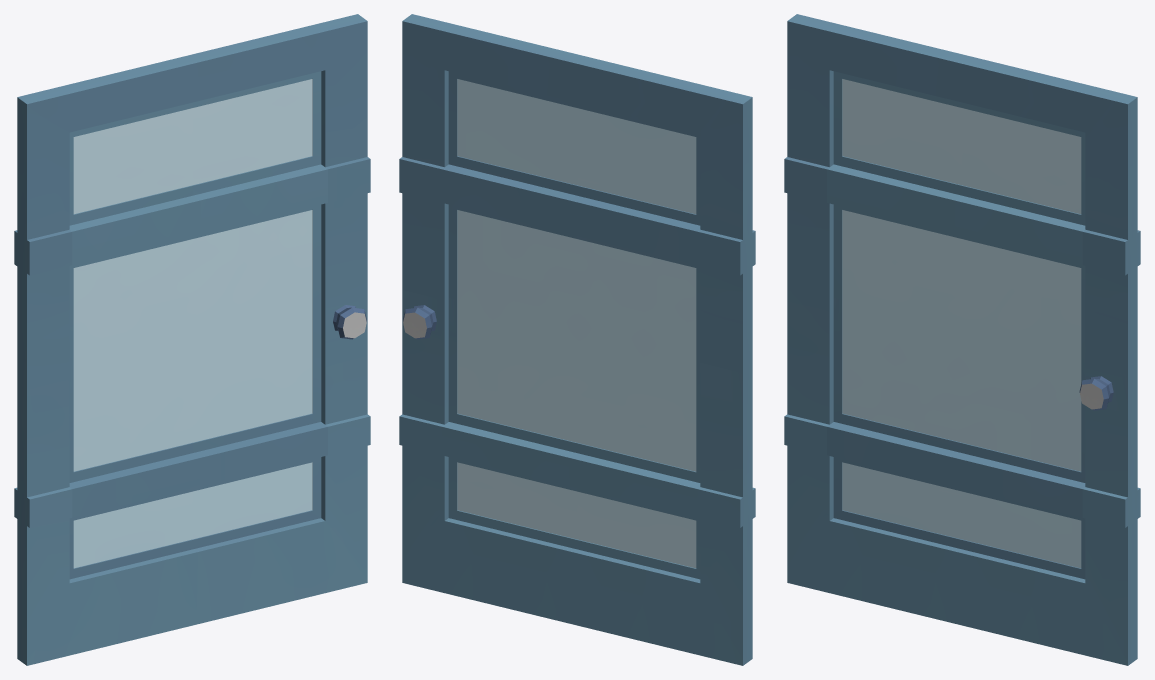
File: door_1.glb
The picture shows the model from 3 angles, left to right: view 1: azimuth 30°, elevation 25°; view 2: azimuth 150°, elevation 25°; view 3: azimuth 330°, elevation 25°; orthographic projection.
Visible parts, largest first — view 1: door_1; view 2: door_1; view 3: door_1.
Boxes of the visible parts, x1=… form: door_1: x1=14, y1=14, x2=370, y2=665; door_1: x1=399, y1=14, x2=755, y2=665; door_1: x1=784, y1=14, x2=1140, y2=665.
Bounding box in the file's own units: 1 × 1.58 × 0.1689.
1 material, 1 textured.
